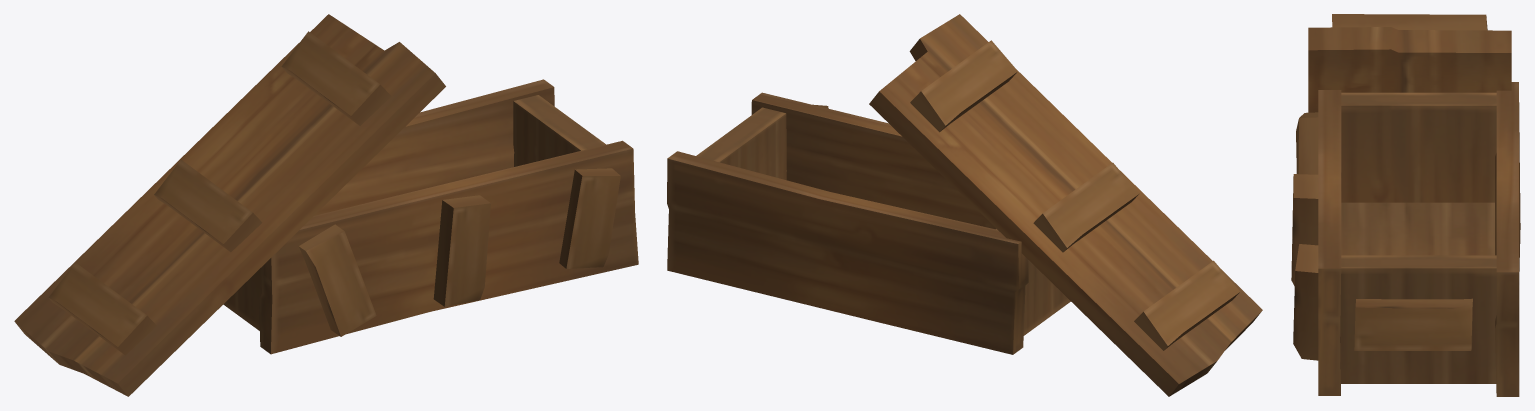
The model's file is Crate_With_Lid.FBX.
The picture shows the model from 3 angles, left to right: view 1: azimuth 30°, elevation 25°; view 2: azimuth 150°, elevation 25°; view 3: azimuth 270°, elevation 25°; orthographic projection. The views are drawn at different scales.
Parts seen in each view (by area): view 1: Crate_With_Lid; view 2: Crate_With_Lid; view 3: Crate_With_Lid.
Boxes of the visible parts, left/top/right/bottom form: Crate_With_Lid: left=14, top=14, right=638, bottom=396; Crate_With_Lid: left=667, top=14, right=1262, bottom=396; Crate_With_Lid: left=1291, top=14, right=1520, bottom=396.
Size of what is drawn, in the model's own units: 245 by 84.6 by 112.
1 material, 1 textured.
